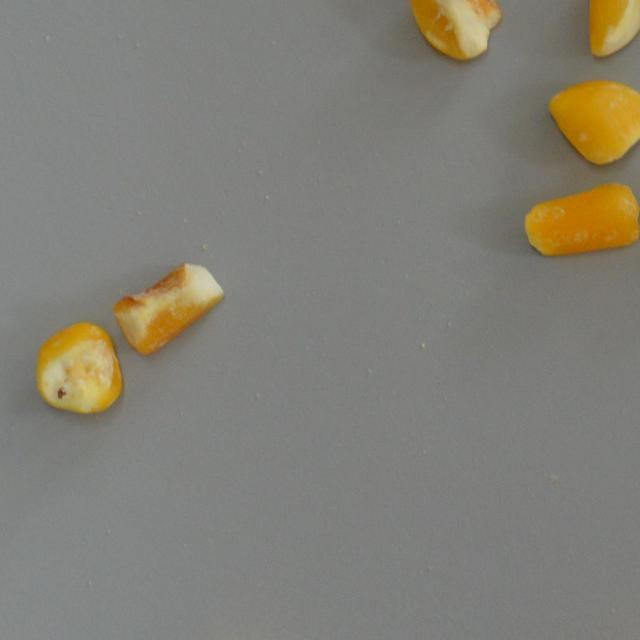dañado: (112, 261, 229, 354), (410, 0, 504, 63)
estandar: (544, 78, 640, 166)
pelicula: (520, 182, 640, 255)
punto_negro: (32, 316, 123, 418), (584, 0, 640, 60)
